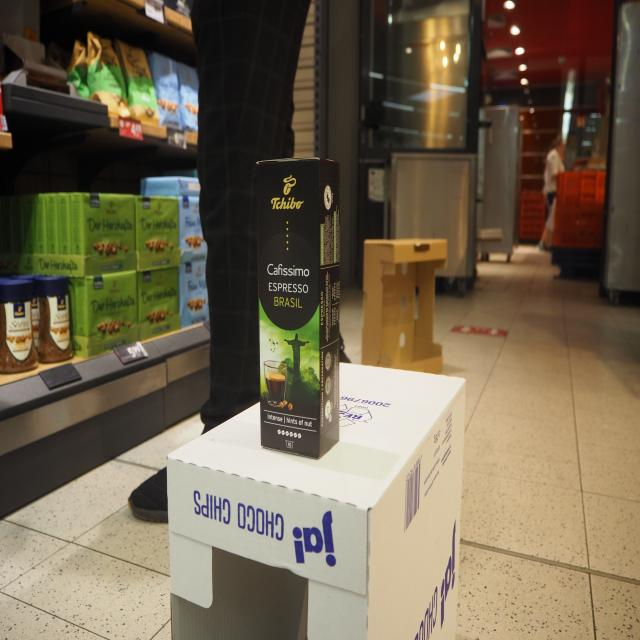Simo Es Brazil: (253, 156, 342, 469)
